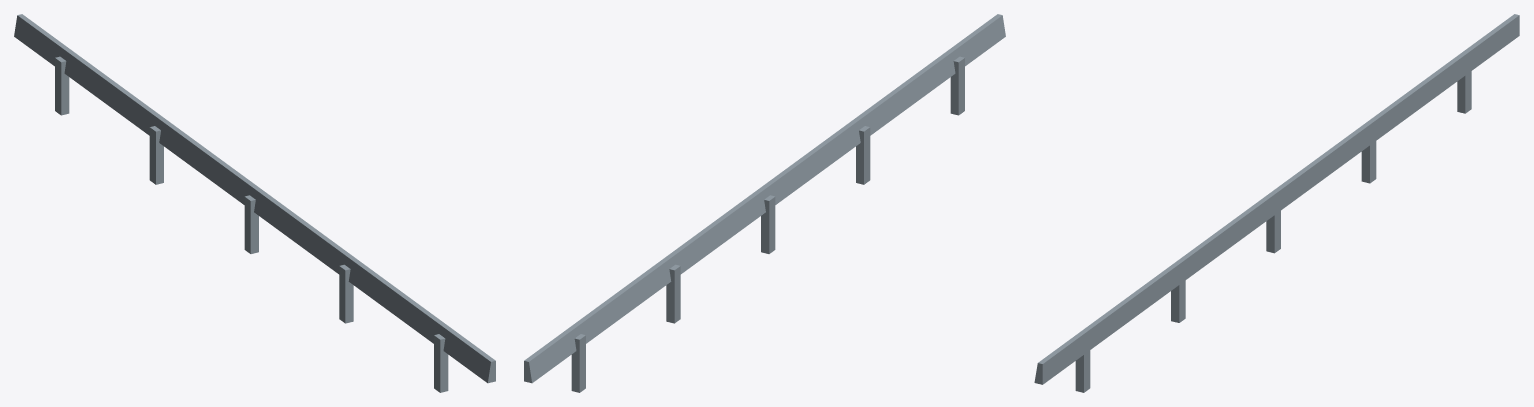
Rendered from ap_quitamiedos.glb.
The picture shows the model from 3 angles, left to right: view 1: azimuth 30°, elevation 25°; view 2: azimuth 150°, elevation 25°; view 3: azimuth 330°, elevation 25°; orthographic projection.
Visible parts, largest first — view 1: road-straight-barrier, Poste_quitamiedos.003, Poste_quitamiedos.002, Poste_quitamiedos.001, Poste_quitamiedos, Poste_quitamiedos.004; view 2: road-straight-barrier, Poste_quitamiedos.001, Poste_quitamiedos.002, Poste_quitamiedos.003, Poste_quitamiedos, Poste_quitamiedos.004; view 3: road-straight-barrier, Poste_quitamiedos, Poste_quitamiedos.003, Poste_quitamiedos.001, Poste_quitamiedos.004, Poste_quitamiedos.002.
Part boxes in pixels (left/top/right/bottom): road-straight-barrier: left=14, top=14, right=495, bottom=383; Poste_quitamiedos.003: left=149, top=126, right=163, bottom=184; Poste_quitamiedos.002: left=244, top=195, right=258, bottom=253; Poste_quitamiedos.001: left=339, top=264, right=353, bottom=323; Poste_quitamiedos: left=434, top=334, right=448, bottom=392; Poste_quitamiedos.004: left=55, top=56, right=69, bottom=115; road-straight-barrier: left=524, top=14, right=1005, bottom=383; Poste_quitamiedos.001: left=856, top=126, right=870, bottom=184; Poste_quitamiedos.002: left=761, top=195, right=775, bottom=253; Poste_quitamiedos.003: left=666, top=264, right=680, bottom=323; Poste_quitamiedos: left=950, top=56, right=964, bottom=115; Poste_quitamiedos.004: left=571, top=334, right=585, bottom=392; road-straight-barrier: left=1034, top=14, right=1519, bottom=384; Poste_quitamiedos: left=1075, top=350, right=1090, bottom=392; Poste_quitamiedos.003: left=1361, top=141, right=1376, bottom=183; Poste_quitamiedos.001: left=1171, top=280, right=1185, bottom=322; Poste_quitamiedos.004: left=1457, top=71, right=1471, bottom=113; Poste_quitamiedos.002: left=1266, top=211, right=1280, bottom=253.
Size of the model in its own units: 0.14 by 0.72 by 10.
